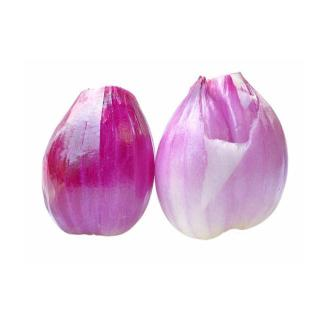Bawang Merah: (153, 70, 292, 243), (38, 83, 158, 240)
